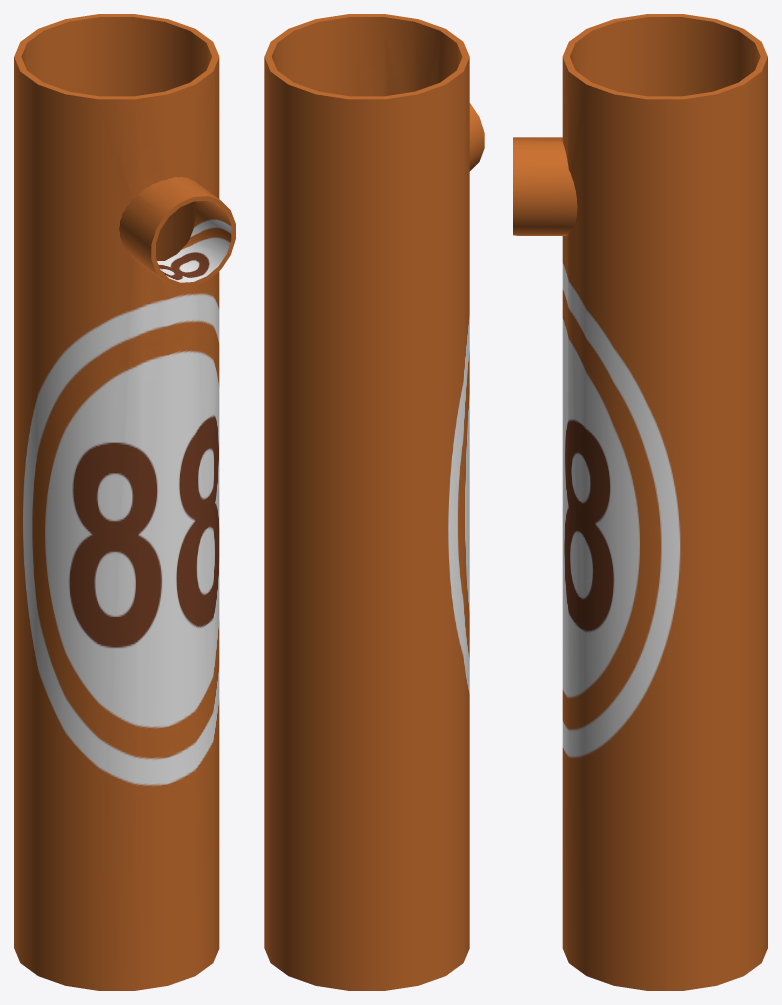
Rendered from glassTube01.FBX.
3 views of the same model, side by side, from view 1: azimuth 30°, elevation 25°; view 2: azimuth 150°, elevation 25°; view 3: azimuth 270°, elevation 25° (orthographic).
Visible parts, largest first — view 1: Tube001; view 2: Tube001; view 3: Tube001.
Boxes of the visible parts, bbox=[...] form: Tube001: bbox=[14, 14, 235, 990]; Tube001: bbox=[264, 14, 484, 990]; Tube001: bbox=[513, 14, 767, 990].
Bounding box in the file's own units: 61.32 × 298 × 77.28.
1 material, 1 textured.
